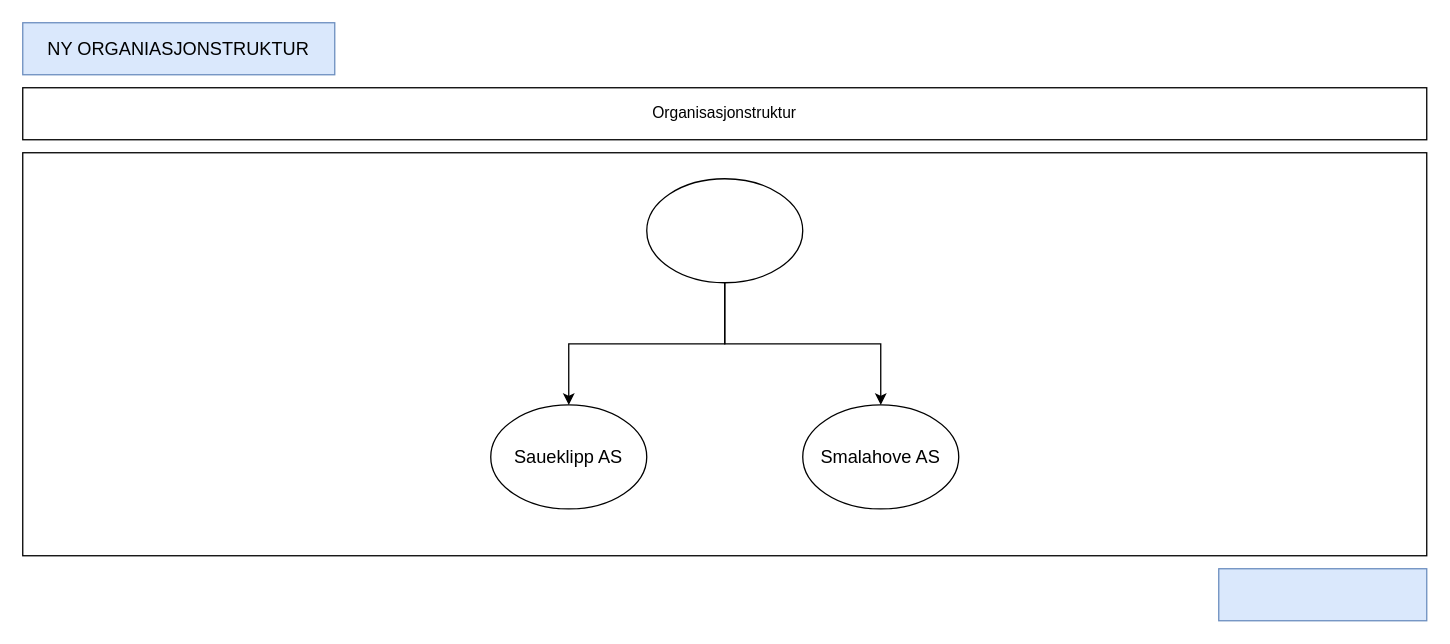
This 1450x644 diagram has some shape labels left out. Each missing label, with the centre of its shape:
"Dolly AS" belongs at pixel 724 230.
"ENDRE" belongs at pixel 1322 594.
